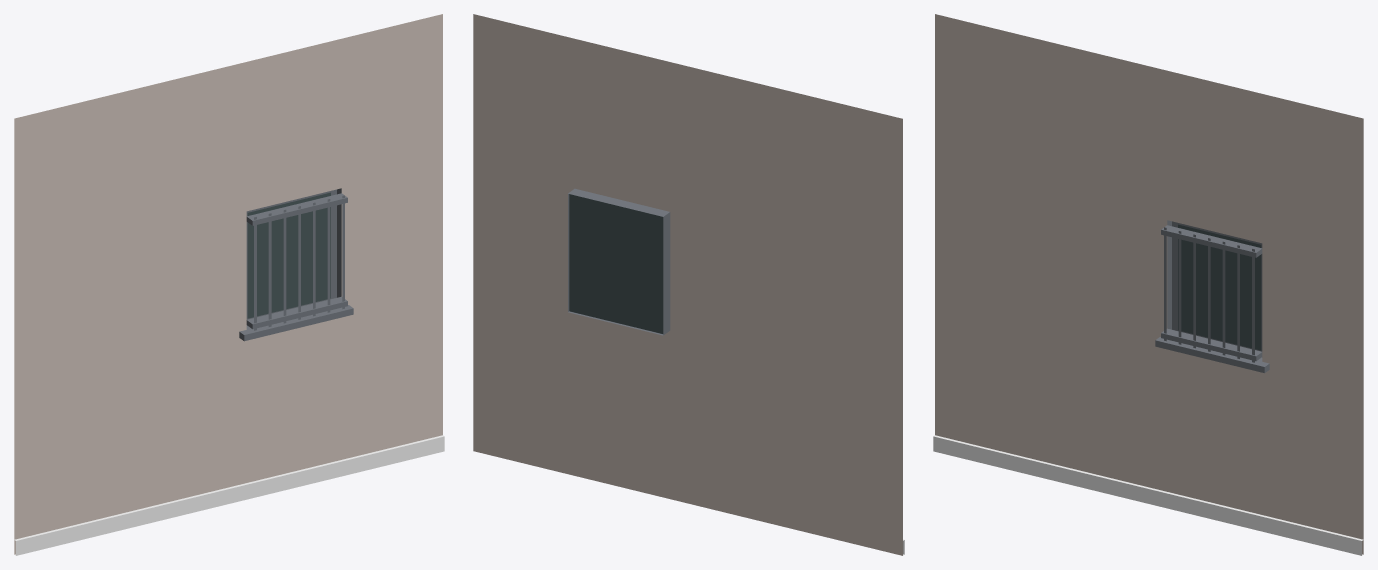
Rendered from top-w2.fbx.
The picture shows the model from 3 angles, left to right: view 1: azimuth 30°, elevation 25°; view 2: azimuth 150°, elevation 25°; view 3: azimuth 330°, elevation 25°; orthographic projection.
Parts seen in each view (by area): view 1: a2000s2/0/top-w2; view 2: a2000s2/0/top-w2; view 3: a2000s2/0/top-w2.
Part boxes in pixels (bbox=[...]): a2000s2/0/top-w2: bbox=[14, 14, 444, 555]; a2000s2/0/top-w2: bbox=[473, 14, 904, 555]; a2000s2/0/top-w2: bbox=[933, 14, 1363, 555].
Bounding box in the file's own units: 3.6 × 3.5 × 0.19.
